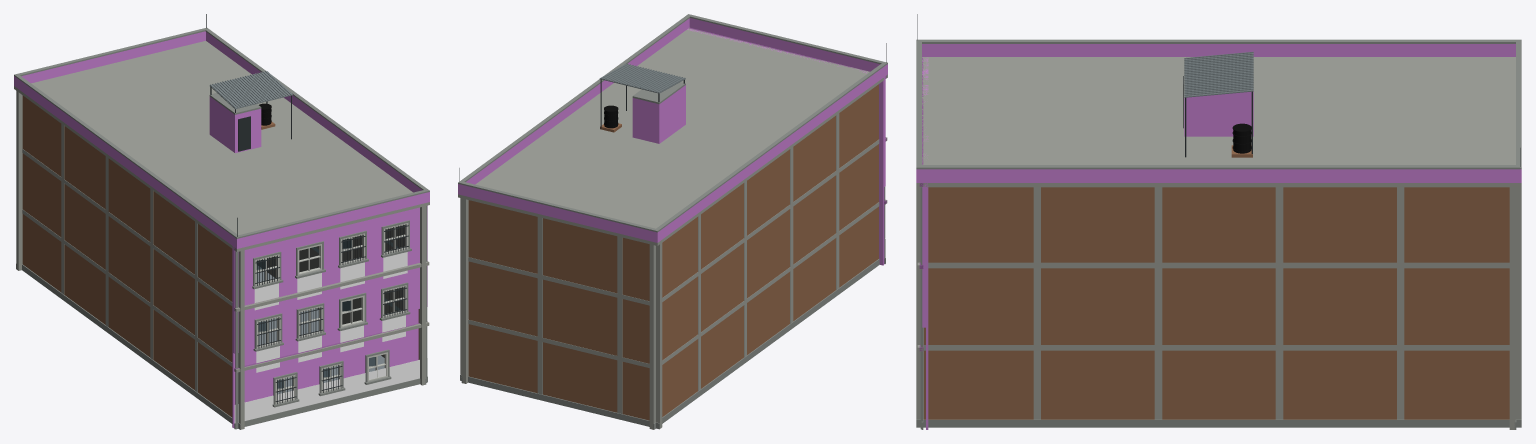
The model's file is house_seed6250_commercial_podium.glb.
3 renders of one model, left to right at view 1: azimuth 30°, elevation 25°; view 2: azimuth 150°, elevation 25°; view 3: azimuth 270°, elevation 25°, orthographic. The views are drawn at different scales.
Parts seen in each view (by area): view 1: wall_7, roof_slab_11, wall_0, wall_11, parapet_0, decal_14, parapet_cap_2, window_panel_4, decal_13, plinth_2, security_bar_5, floor_slab_11 (+14 smaller); view 2: wall_7, roof_slab_11, wall_11, parapet_0, parapet_cap_2, plinth_2, rooftop_room_0, wall_0, corrugation_8, canopy_sheet_8, rooftop_room_cap_2; view 3: wall_7, roof_slab_11, wall_11, parapet_0, parapet_cap_2, plinth_2, corrugation_8, rooftop_room_0, canopy_sheet_8, wall_0, corner_pilaster_2.
Boxes of the visible parts, left/top/right/bottom form: wall_7: left=22, top=95, right=419, bottom=417; roof_slab_11: left=14, top=41, right=429, bottom=251; wall_0: left=232, top=206, right=427, bottom=427; wall_11: left=16, top=42, right=425, bottom=429; parapet_0: left=14, top=31, right=429, bottom=248; decal_14: left=254, top=252, right=407, bottom=413; parapet_cap_2: left=14, top=28, right=429, bottom=238; window_panel_4: left=256, top=225, right=404, bottom=394; decal_13: left=234, top=358, right=427, bottom=423; plinth_2: left=16, top=263, right=427, bottom=429; security_bar_5: left=257, top=224, right=406, bottom=404; floor_slab_11: left=234, top=261, right=429, bottom=372; wall_7: left=468, top=84, right=878, bottom=420; roof_slab_11: left=458, top=28, right=887, bottom=245; wall_11: left=460, top=29, right=879, bottom=429; parapet_0: left=458, top=18, right=887, bottom=242; parapet_cap_2: left=458, top=14, right=887, bottom=232; plinth_2: left=460, top=258, right=885, bottom=429; rooftop_room_0: left=632, top=85, right=685, bottom=143; wall_0: left=687, top=29, right=885, bottom=265; corrugation_8: left=601, top=63, right=684, bottom=92; canopy_sheet_8: left=599, top=64, right=685, bottom=93; rooftop_room_cap_2: left=632, top=82, right=685, bottom=104; wall_7: left=924, top=187, right=1509, bottom=419; roof_slab_11: left=916, top=57, right=1521, bottom=187; wall_11: left=916, top=58, right=1521, bottom=429; parapet_0: left=916, top=44, right=1521, bottom=182; parapet_cap_2: left=916, top=39, right=1521, bottom=169; plinth_2: left=916, top=419, right=1521, bottom=429; corrugation_8: left=1184, top=51, right=1253, bottom=95; rooftop_room_0: left=1184, top=91, right=1253, bottom=136; canopy_sheet_8: left=1184, top=53, right=1253, bottom=97; wall_0: left=922, top=57, right=928, bottom=429; corner_pilaster_2: left=920, top=187, right=922, bottom=429.
Size of the model in its own units: 10 by 11.48 by 20.
